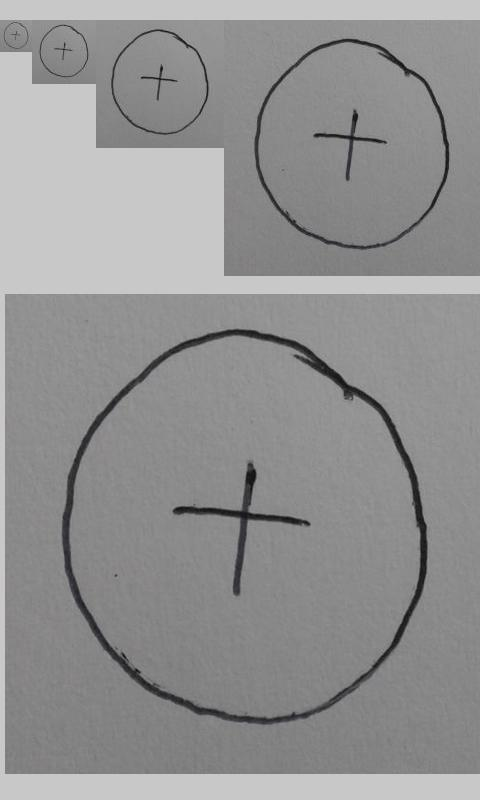button: (59, 325, 433, 730), (252, 37, 452, 251), (110, 28, 211, 136), (39, 24, 89, 78), (3, 22, 29, 50)
